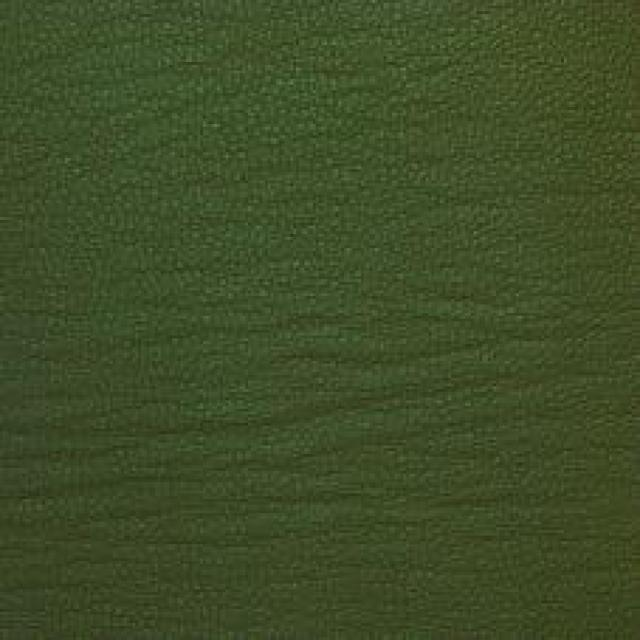Growth Marks: (83, 21, 440, 184), (201, 263, 543, 432)
